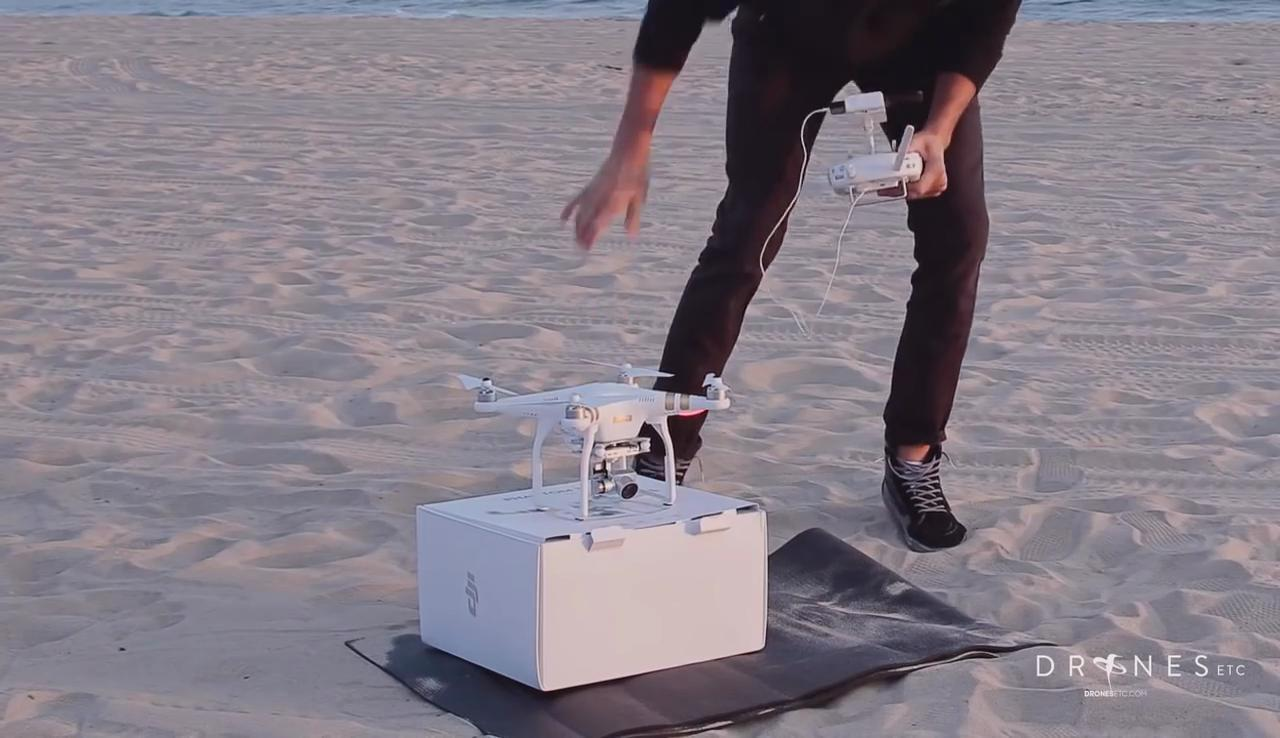drone: (444, 351, 734, 518)
